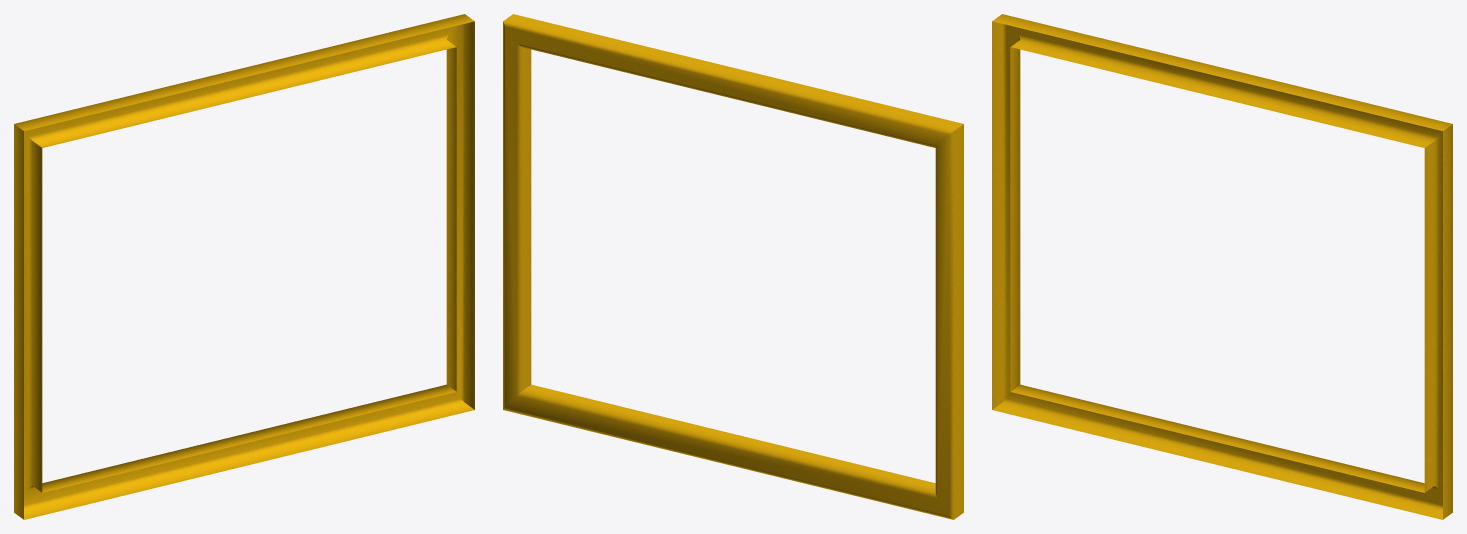
The model's file is ARC0510103.fbx.
The picture shows the model from 3 angles, left to right: view 1: azimuth 30°, elevation 25°; view 2: azimuth 150°, elevation 25°; view 3: azimuth 330°, elevation 25°; orthographic projection.
Parts seen in each view (by area): view 1: smARC0510103; view 2: smARC0510103; view 3: smARC0510103.
Boxes of the visible parts, <box> form: smARC0510103: <box>14,14,474,519</box>; smARC0510103: <box>503,14,963,519</box>; smARC0510103: <box>992,14,1452,519</box>.
Size of the model in its own units: 176 by 145 by 7.5.
Materials: 1 (1 with a texture image).
